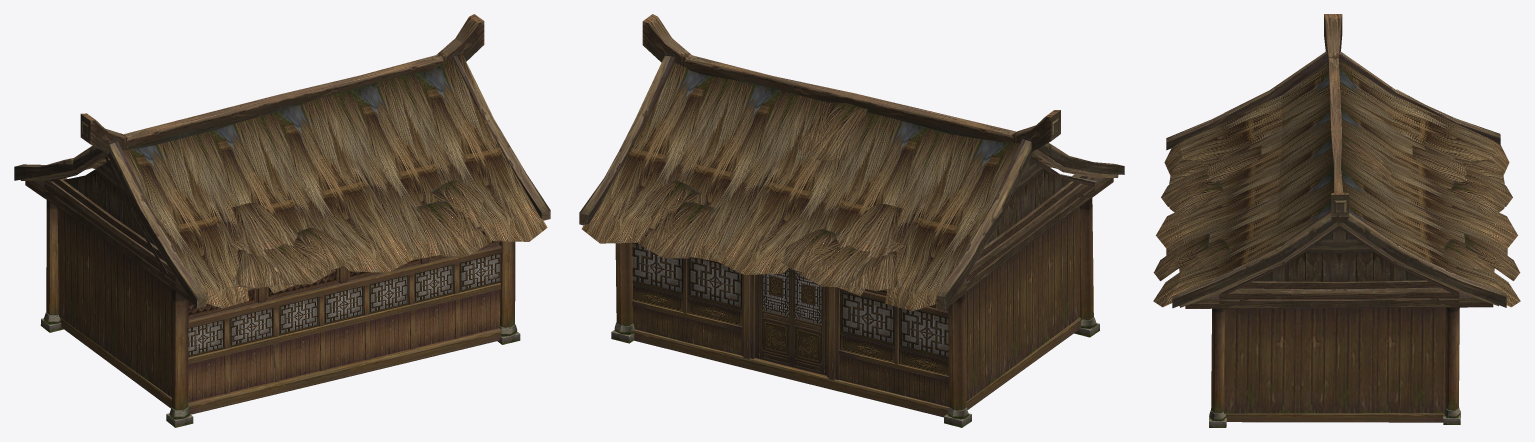
The model's file is ZZL_building_04.FBX.
The picture shows the model from 3 angles, left to right: view 1: azimuth 30°, elevation 25°; view 2: azimuth 150°, elevation 25°; view 3: azimuth 270°, elevation 25°; orthographic projection. The views are drawn at different scales.
Visible parts, largest first — view 1: ZZL_building_04; view 2: ZZL_building_04; view 3: ZZL_building_04.
Boxes of the visible parts, <box> form: ZZL_building_04: <box>14,14,550,427</box>; ZZL_building_04: <box>579,14,1124,427</box>; ZZL_building_04: <box>1153,14,1520,427</box>.
Size of the model in its own units: 2077 by 1337 by 1784.
1 material, 1 textured.
